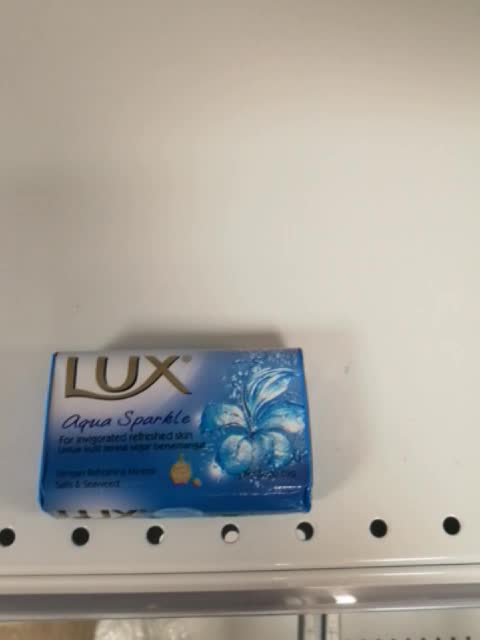soap: (37, 341, 314, 520)
